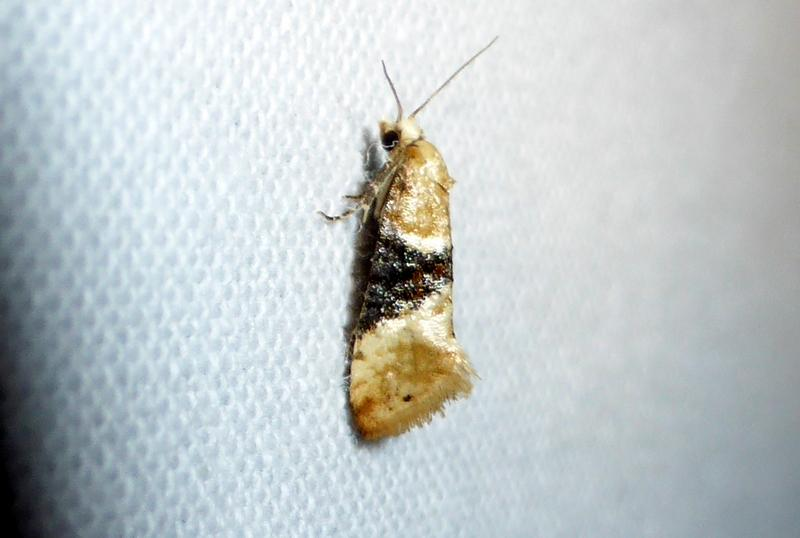Eupoecilia Ambiguella: (313, 32, 503, 445)
